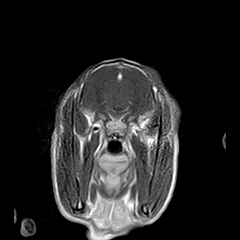Brain: (71, 27, 170, 125)
